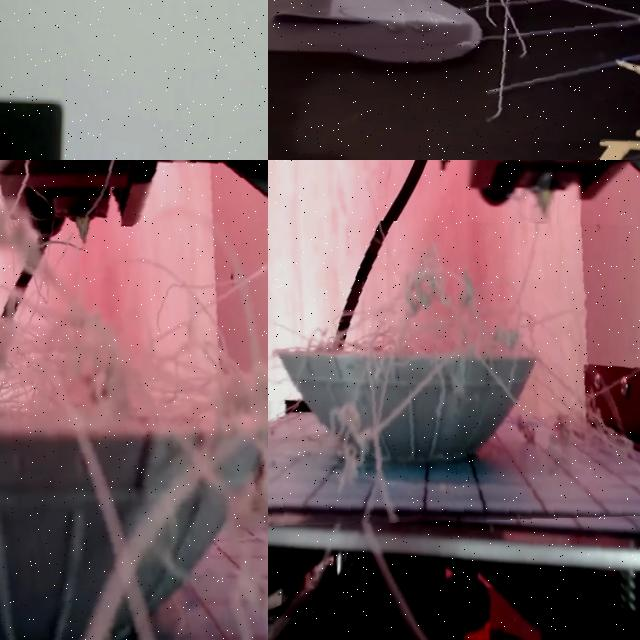spaghetti: (0, 160, 268, 640), (268, 218, 640, 532), (376, 0, 640, 151)
